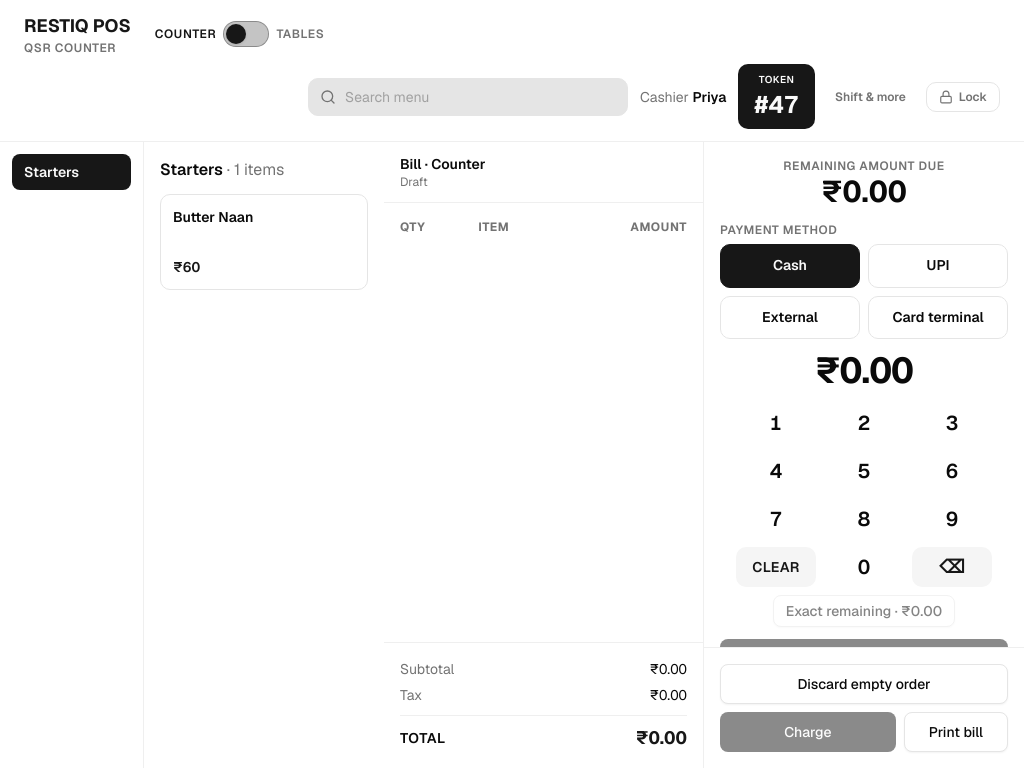
Test: CounterView - starting a counter order (restiq-web#343) › discards an order that was emptied again, back to a fresh screen (PE-16)
Click the button with test id "counter-discard-order" at [864, 684], box [720, 664, 1008, 704]
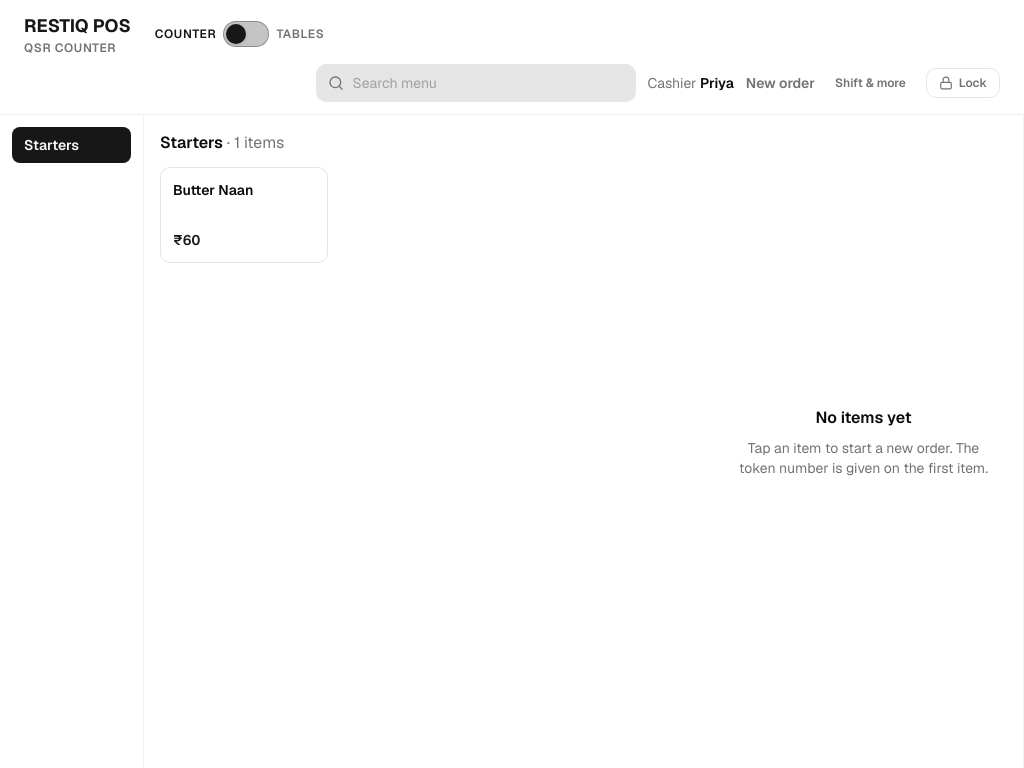
expect the text "New order" is shown: met, box [746, 73, 815, 93]
